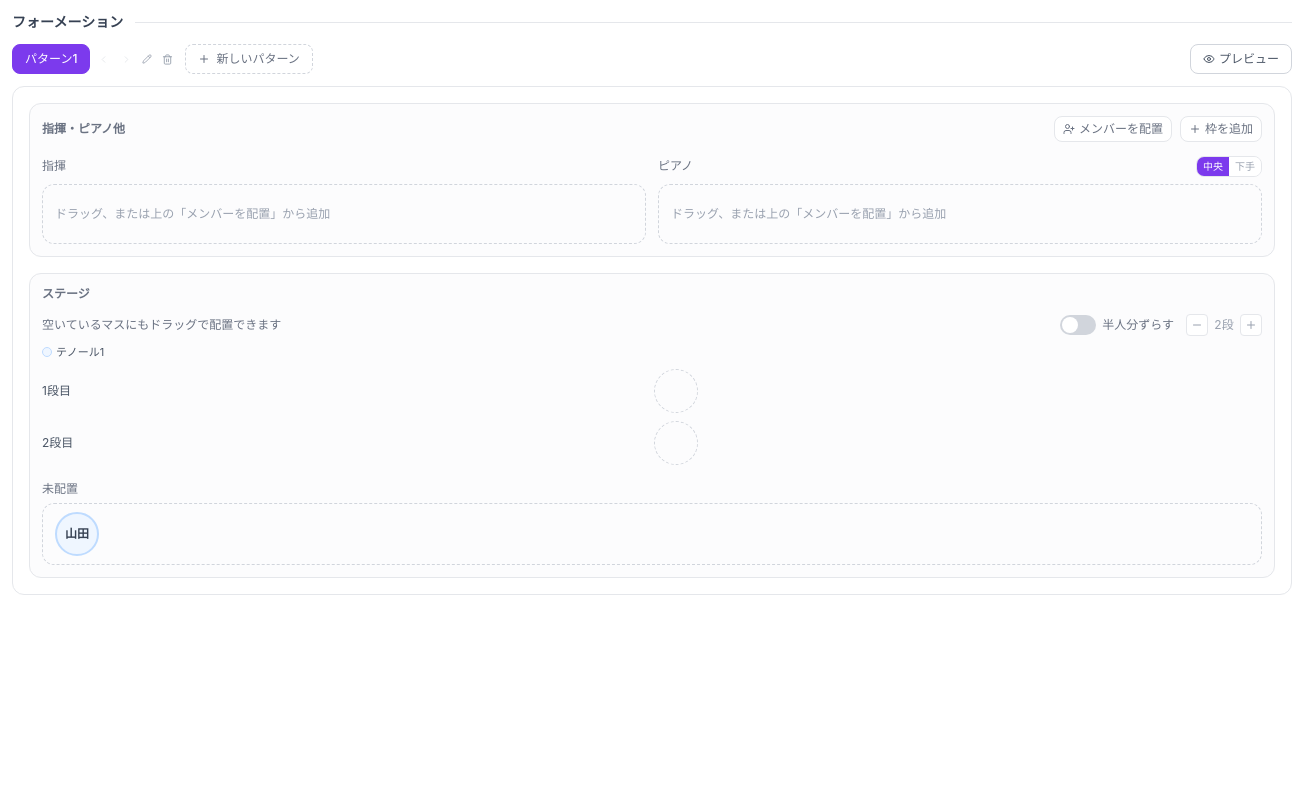
Test: OnstageTab（パターンCRUD） › パターン名が空なら保存せず理由を出す
Click the button named "パターン1を編集" at (147, 59), box [140,52,154,66]
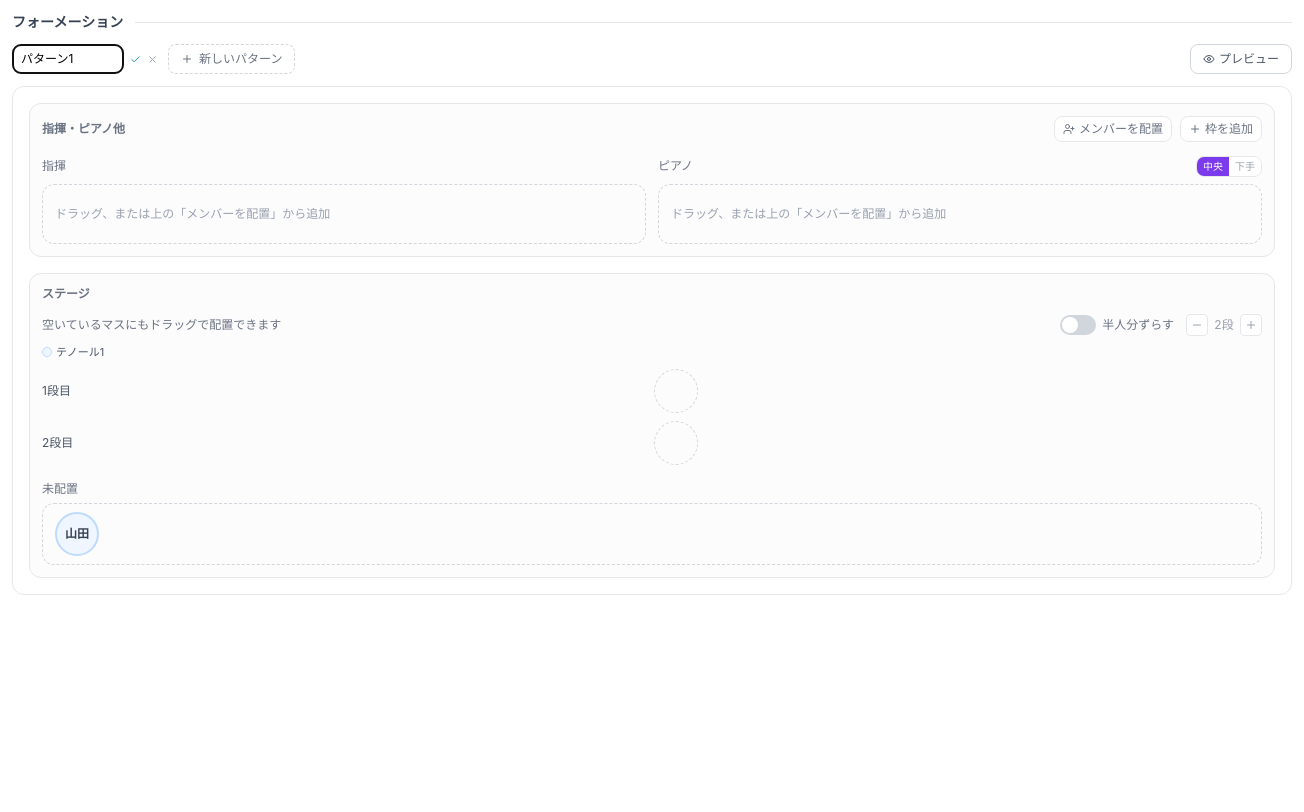
Clear the field named "パターン名" at (68, 59), box [12,44,124,74]
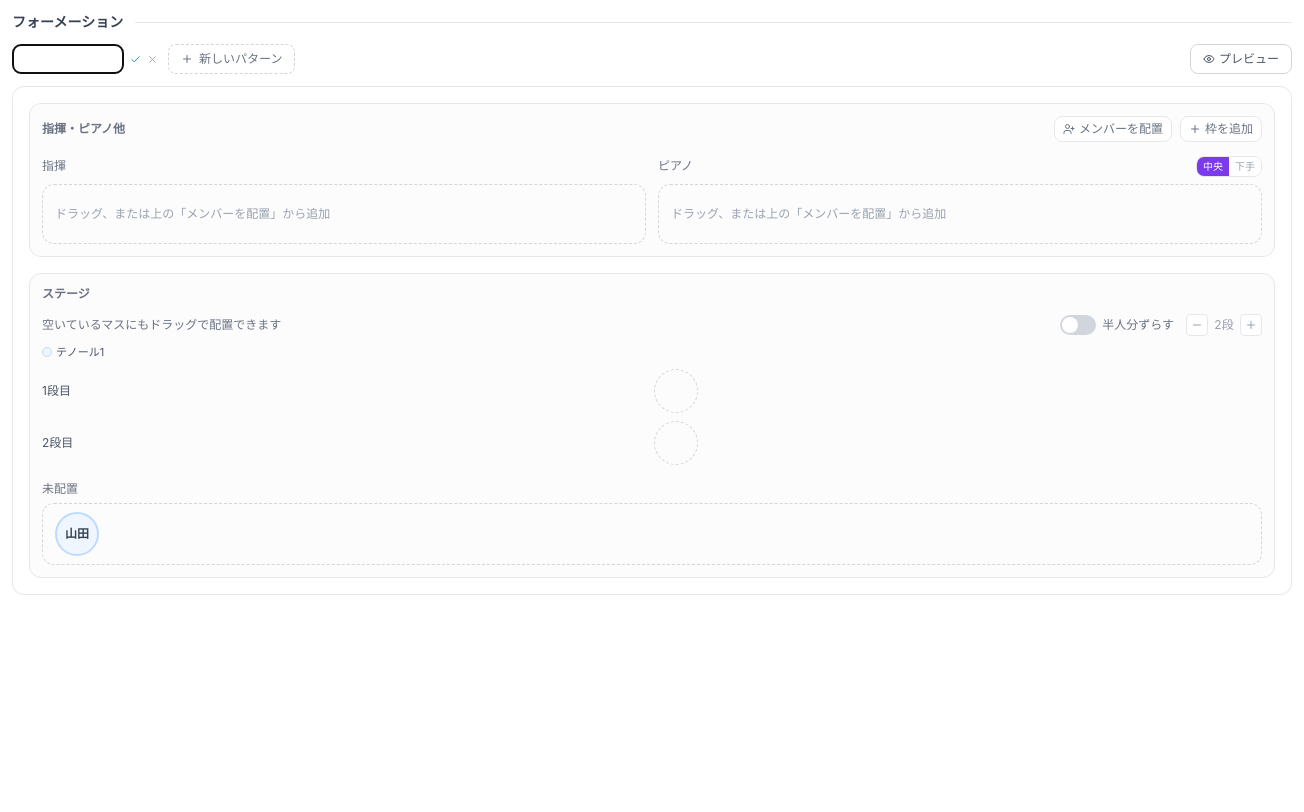
Click the button named "パターン名を保存" at (136, 59), box [128,52,143,66]
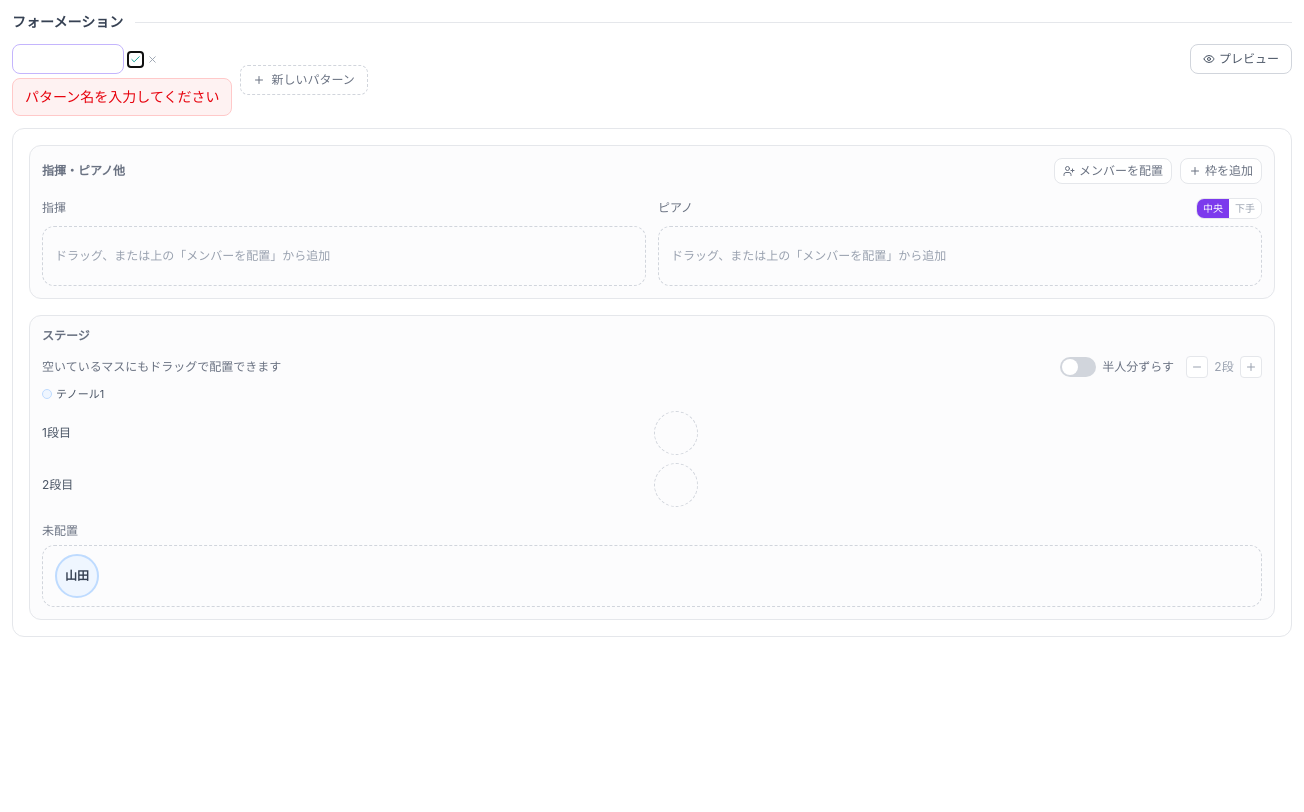
Expected: the message reads "パターン名を入力してください", [25,88,220,105]
